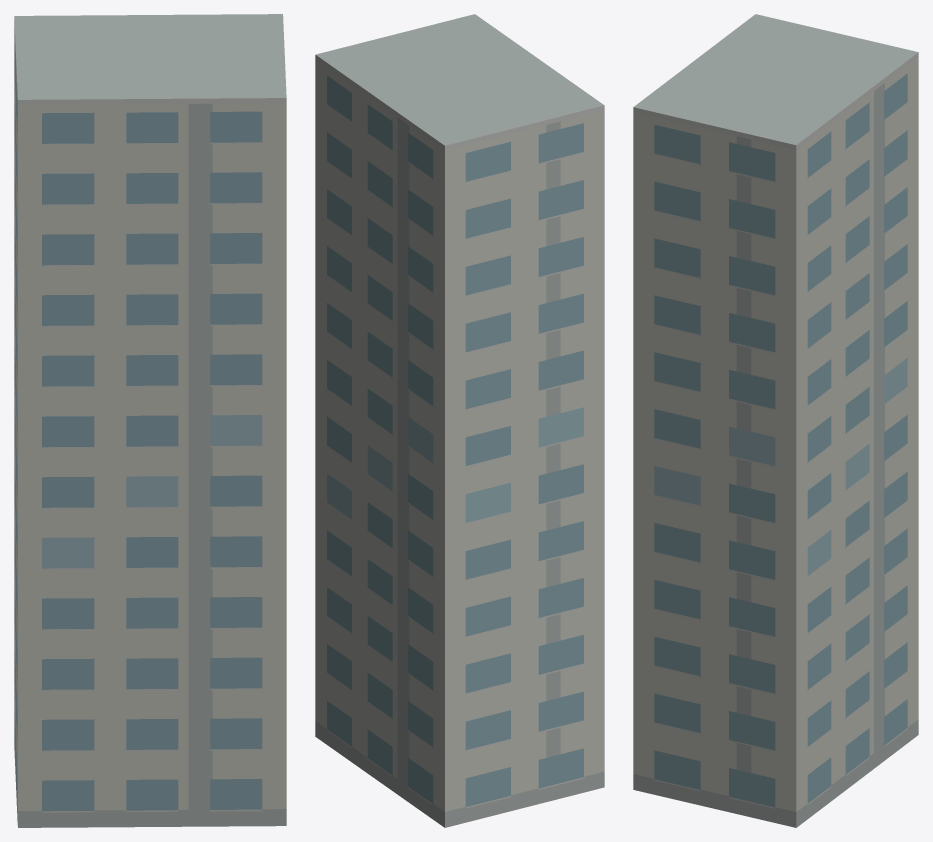
Rendered from residential-8b45df06-e4cd-4ac3-bcb7-4f44e996f394.glb.
3 renders of one model, left to right at view 1: azimuth 30°, elevation 25°; view 2: azimuth 150°, elevation 25°; view 3: azimuth 270°, elevation 25°, orthographic. The views are drawn at different scales.
Visible parts, largest first — view 1: residential-8b45df06-e4cd-4ac3-bcb7-4f44e996f394.tmp; view 2: residential-8b45df06-e4cd-4ac3-bcb7-4f44e996f394.tmp; view 3: residential-8b45df06-e4cd-4ac3-bcb7-4f44e996f394.tmp.
Part boxes in pixels (bbox=[...]): residential-8b45df06-e4cd-4ac3-bcb7-4f44e996f394.tmp: bbox=[14, 14, 286, 827]; residential-8b45df06-e4cd-4ac3-bcb7-4f44e996f394.tmp: bbox=[315, 14, 604, 827]; residential-8b45df06-e4cd-4ac3-bcb7-4f44e996f394.tmp: bbox=[633, 14, 918, 827].
Size of the model in its own units: 14.03 by 34 by 12.89.
